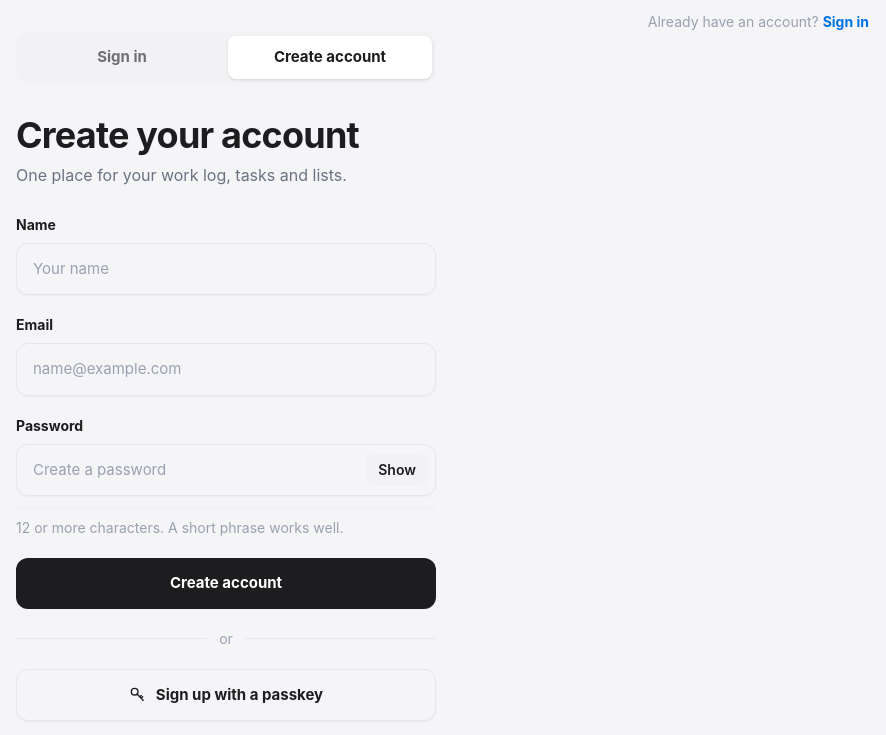
Scenario: AuthForm passkey button › explains passkeys are added after signup
The width and height of the screenshot is (886, 735).
Click the button "Sign up with a passkey" at (226, 695), box [16,668,436,721]
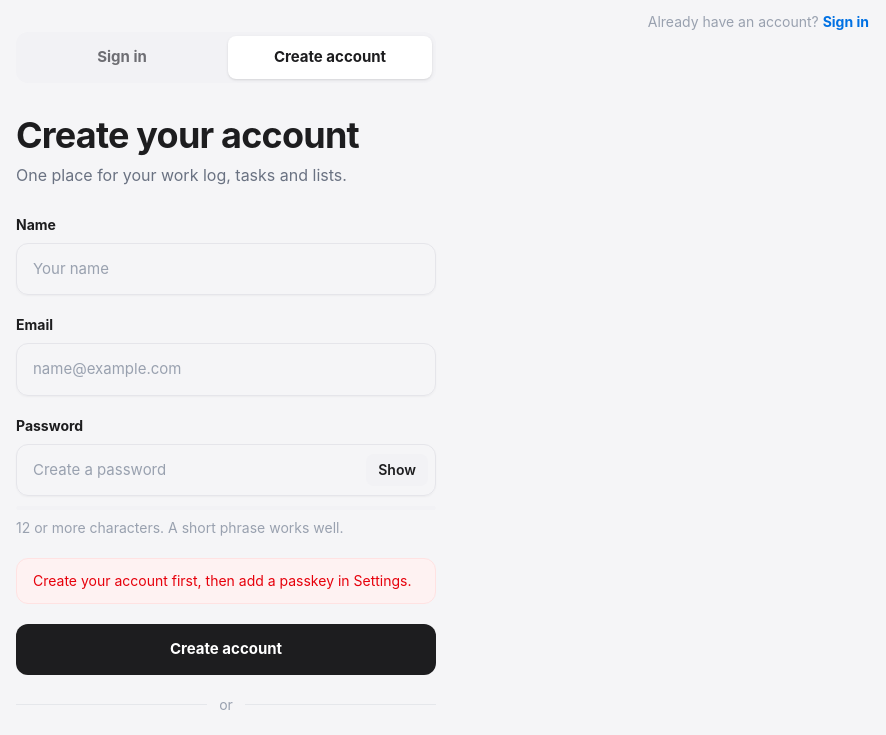
Result: the text "Create your account first, then add a passkey in Settings." is shown at [33,571,419,591]
